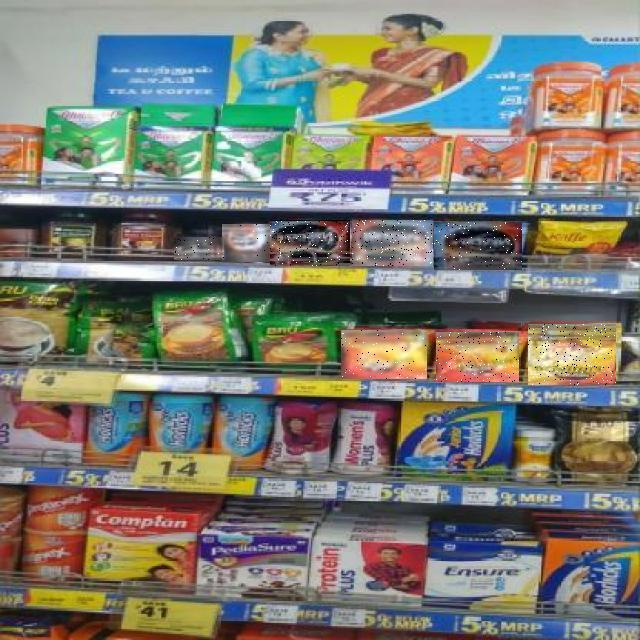Coffee: (529, 324, 617, 385), (435, 222, 523, 270), (341, 330, 427, 379), (436, 332, 519, 382), (352, 220, 433, 266), (270, 220, 350, 266), (222, 224, 270, 262), (174, 237, 224, 260)
